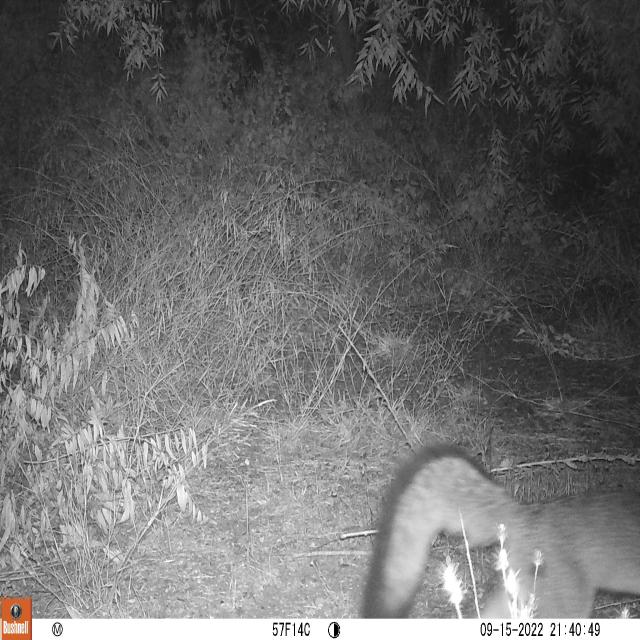Fox: (355, 433, 640, 618)
